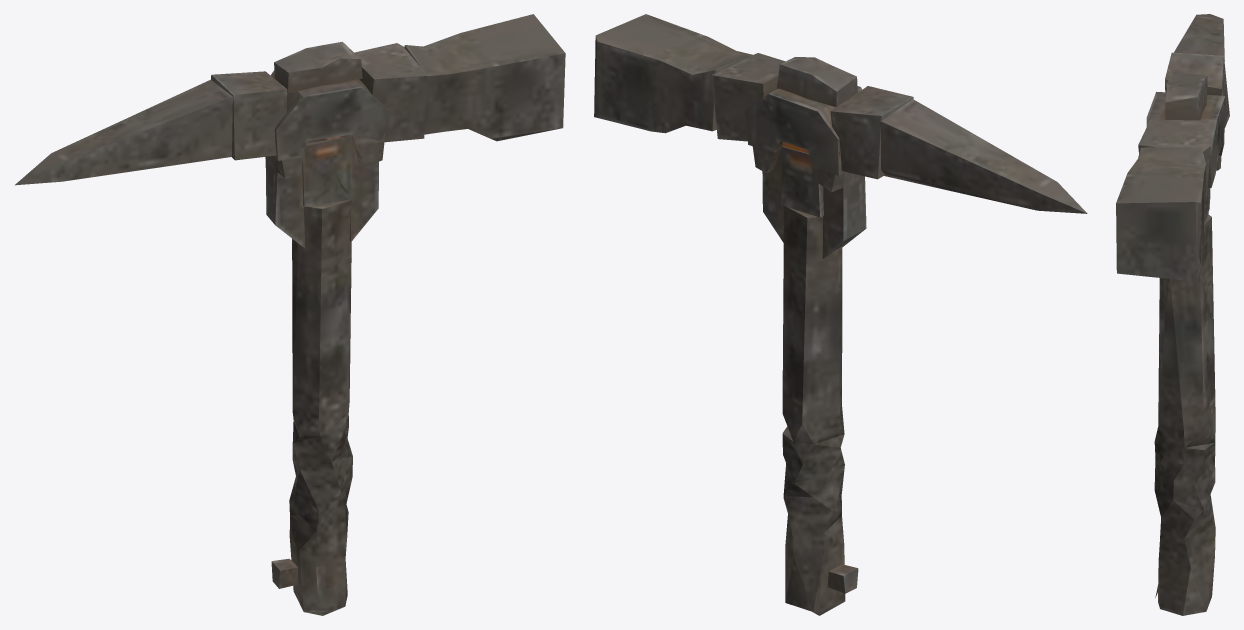
The model's file is prop.pickaxe.glb.
3 views of the same model, side by side, from view 1: azimuth 30°, elevation 25°; view 2: azimuth 150°, elevation 25°; view 3: azimuth 270°, elevation 25° (orthographic). The views are drawn at different scales.
Parts seen in each view (by area): view 1: body; view 2: body; view 3: body.
Part boxes in pixels (x1,y1,x2,y2): body: (15, 14, 565, 615); body: (594, 14, 1087, 615); body: (1116, 14, 1229, 615).
Bounding box in the file's own units: 0.4336 × 0.4488 × 0.0877.
1 material, 1 textured.
